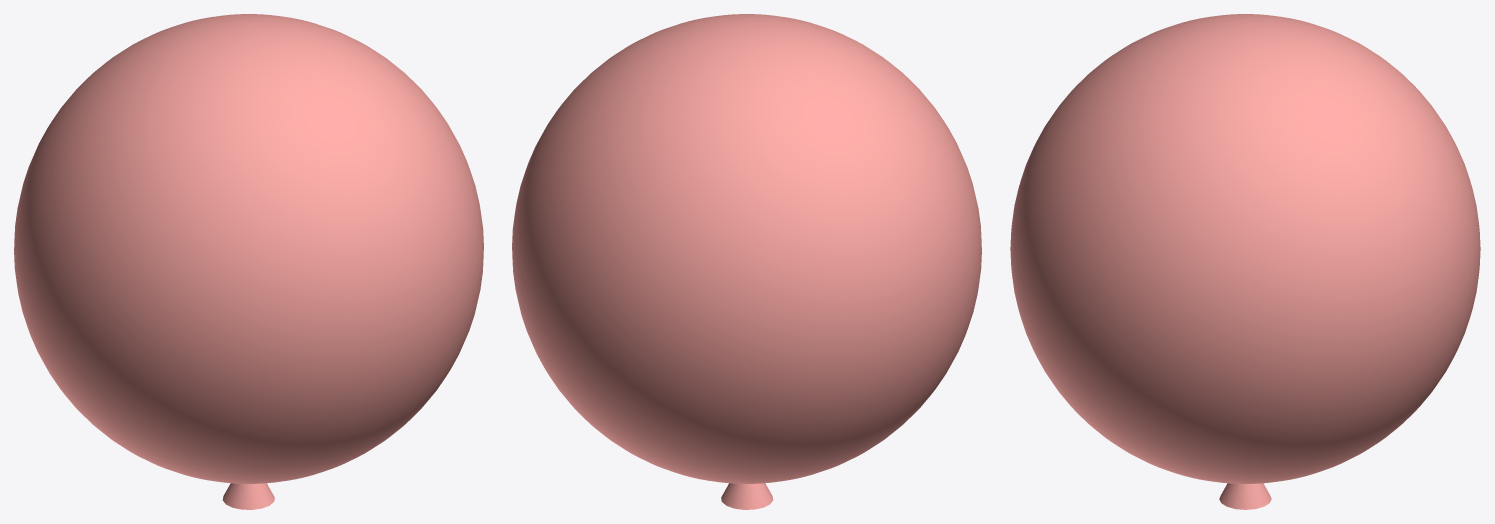
Rendered from wiggle original.fbx.
The picture shows the model from 3 angles, left to right: view 1: azimuth 30°, elevation 25°; view 2: azimuth 150°, elevation 25°; view 3: azimuth 270°, elevation 25°; orthographic projection.
Visible parts, largest first — view 1: 푸요ㅓ선; view 2: 푸요ㅓ선; view 3: 푸요ㅓ선.
Boxes of the visible parts, bbox=[...] form: 푸요ㅓ선: bbox=[14, 14, 483, 509]; 푸요ㅓ선: bbox=[512, 14, 981, 509]; 푸요ㅓ선: bbox=[1010, 14, 1480, 509].
Bounding box in the file's own units: 269 × 292 × 269.
